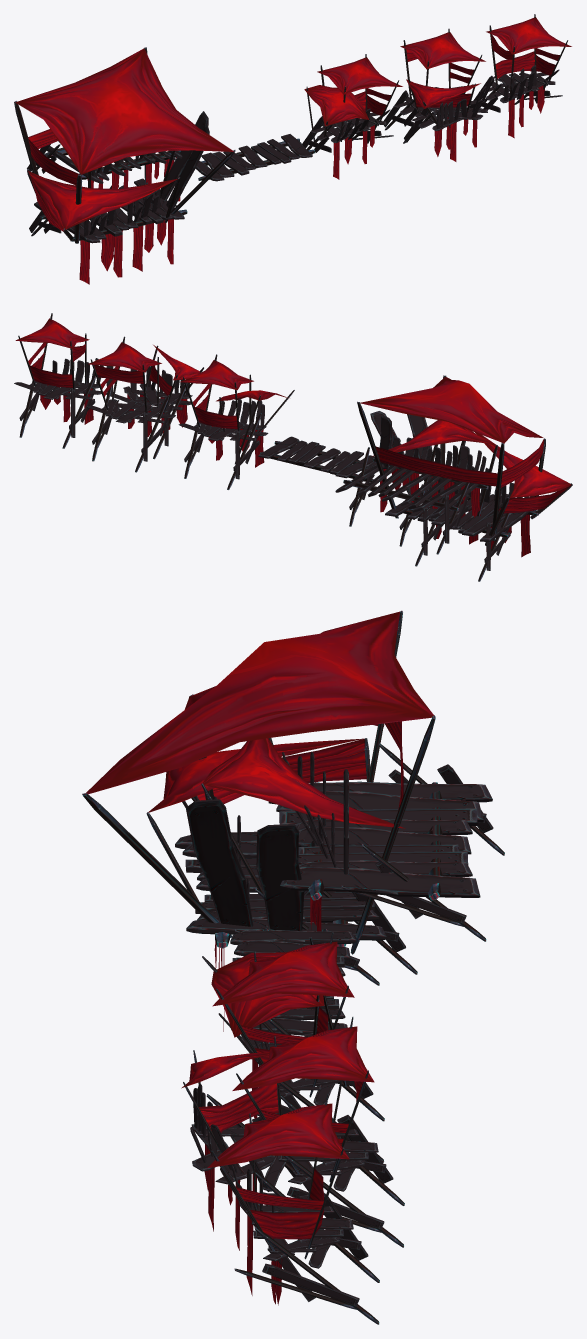
File: wall_decor.fbx
3 renders of one model, top to bottom at view 1: azimuth 30°, elevation 25°; view 2: azimuth 150°, elevation 25°; view 3: azimuth 270°, elevation 25°, orthographic. The views are drawn at different scales.
Visible parts, largest first — view 1: structure5, structure4, structure2, structure3, structure1; view 2: structure5, structure4, structure2, structure3, structure1; view 3: structure5, structure4, structure3, structure2, structure1.
Boxes of the visible parts, box(x1,y1,x2,y2) form: structure5: box(14, 47, 235, 284); structure4: box(383, 28, 494, 161); structure2: box(302, 54, 402, 179); structure3: box(469, 14, 571, 138); structure1: box(195, 134, 314, 181); structure5: box(335, 375, 572, 581); structure4: box(86, 336, 203, 472); structure2: box(178, 354, 294, 489); structure3: box(14, 313, 103, 448); structure1: box(258, 436, 378, 481); structure5: box(82, 610, 504, 1031); structure4: box(181, 1017, 404, 1250); structure3: box(207, 1093, 379, 1324); structure2: box(202, 932, 384, 1162); structure1: box(230, 928, 356, 1043).
Bounding box in the file's own units: 10272 × 3278 × 3609.
